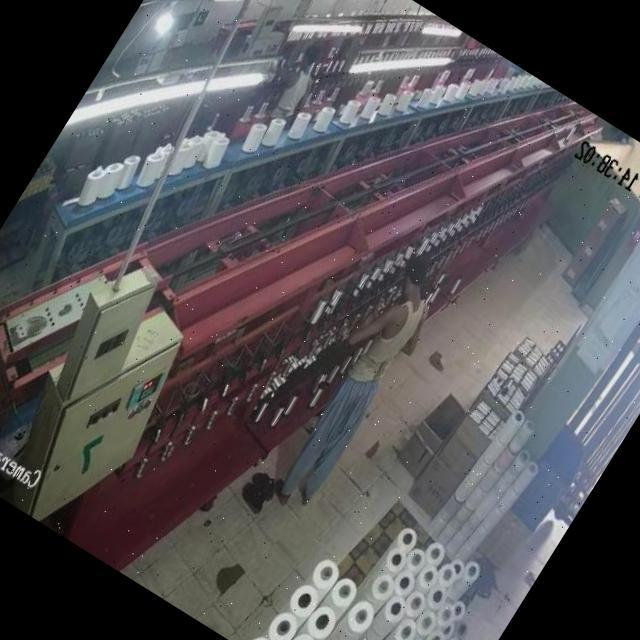person: (270, 255, 450, 508), (258, 38, 329, 124)
